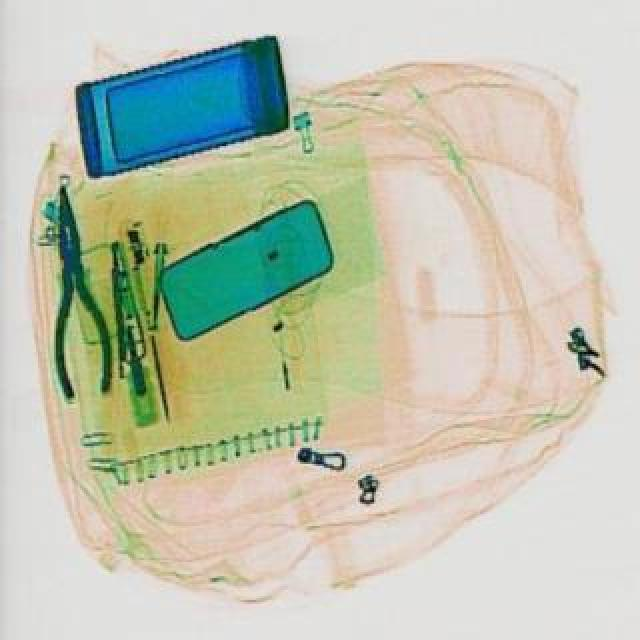wrench: (34, 180, 114, 396)
